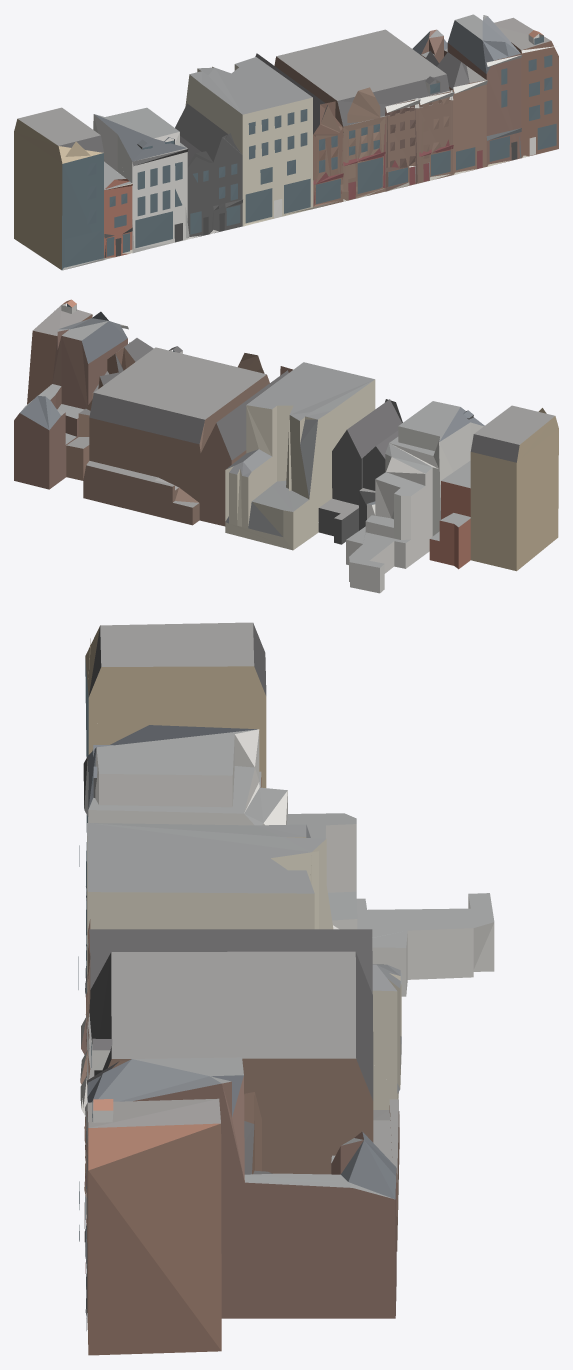
The model's file is chunk-face-utrechtse-48-76.lod2.glb.
The picture shows the model from 3 angles, top to bottom: view 1: azimuth 30°, elevation 25°; view 2: azimuth 150°, elevation 25°; view 3: azimuth 270°, elevation 25°; orthographic projection. The views are drawn at different scales.
Visible parts, largest first — view 1: lod2; view 2: lod2; view 3: lod2.
Boxes of the visible parts, box(x1,y1,x2,y2) form: lod2: box(14, 14, 558, 270); lod2: box(14, 299, 558, 593); lod2: box(78, 622, 494, 1355).
Bounding box in the file's own units: 75.47 × 17.99 × 27.14.
